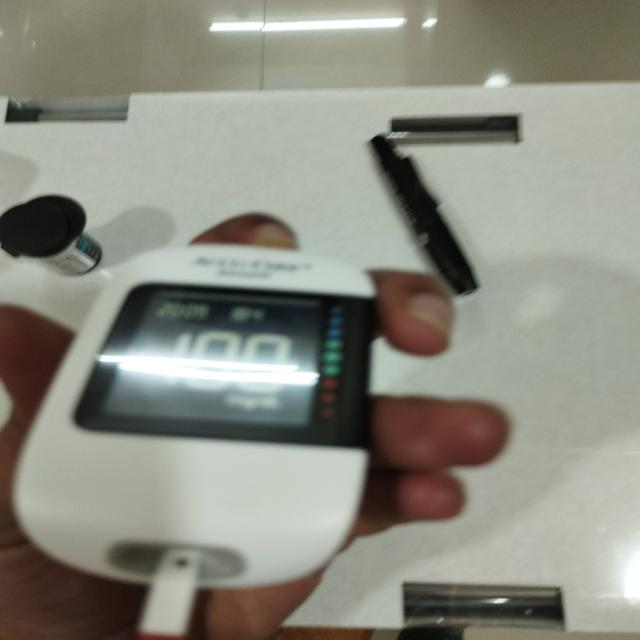gluco: (13, 219, 379, 637)
